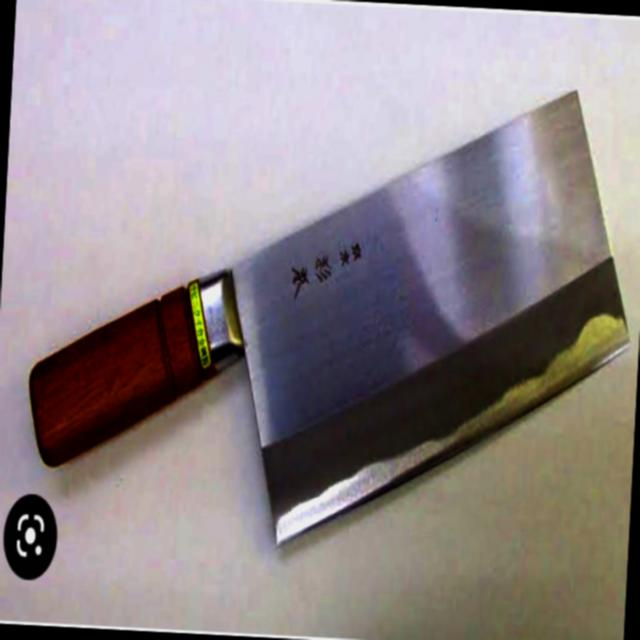knife: (19, 76, 639, 614)
